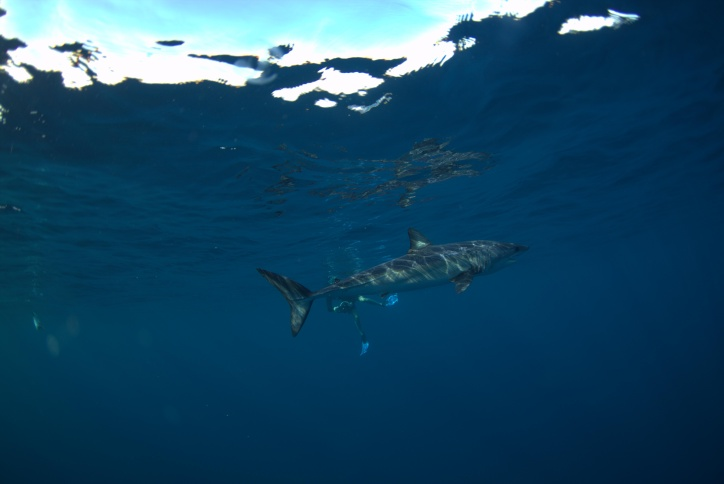Mako: (249, 226, 536, 342)
